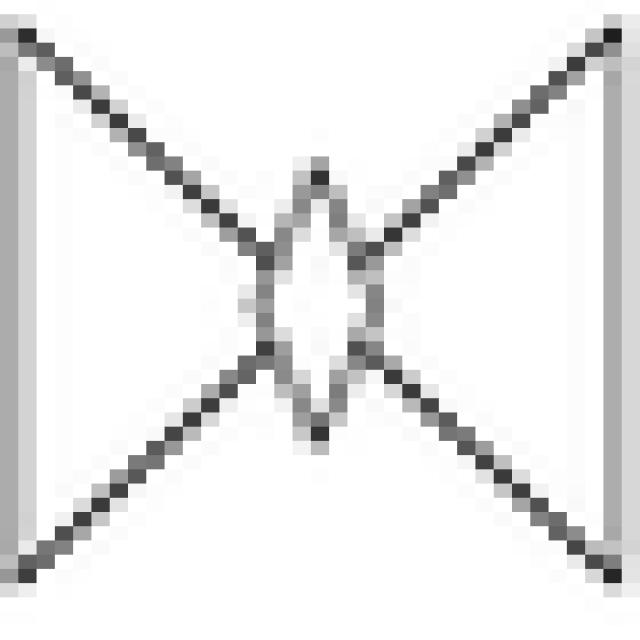Plug Valve: (14, 23, 621, 583)
